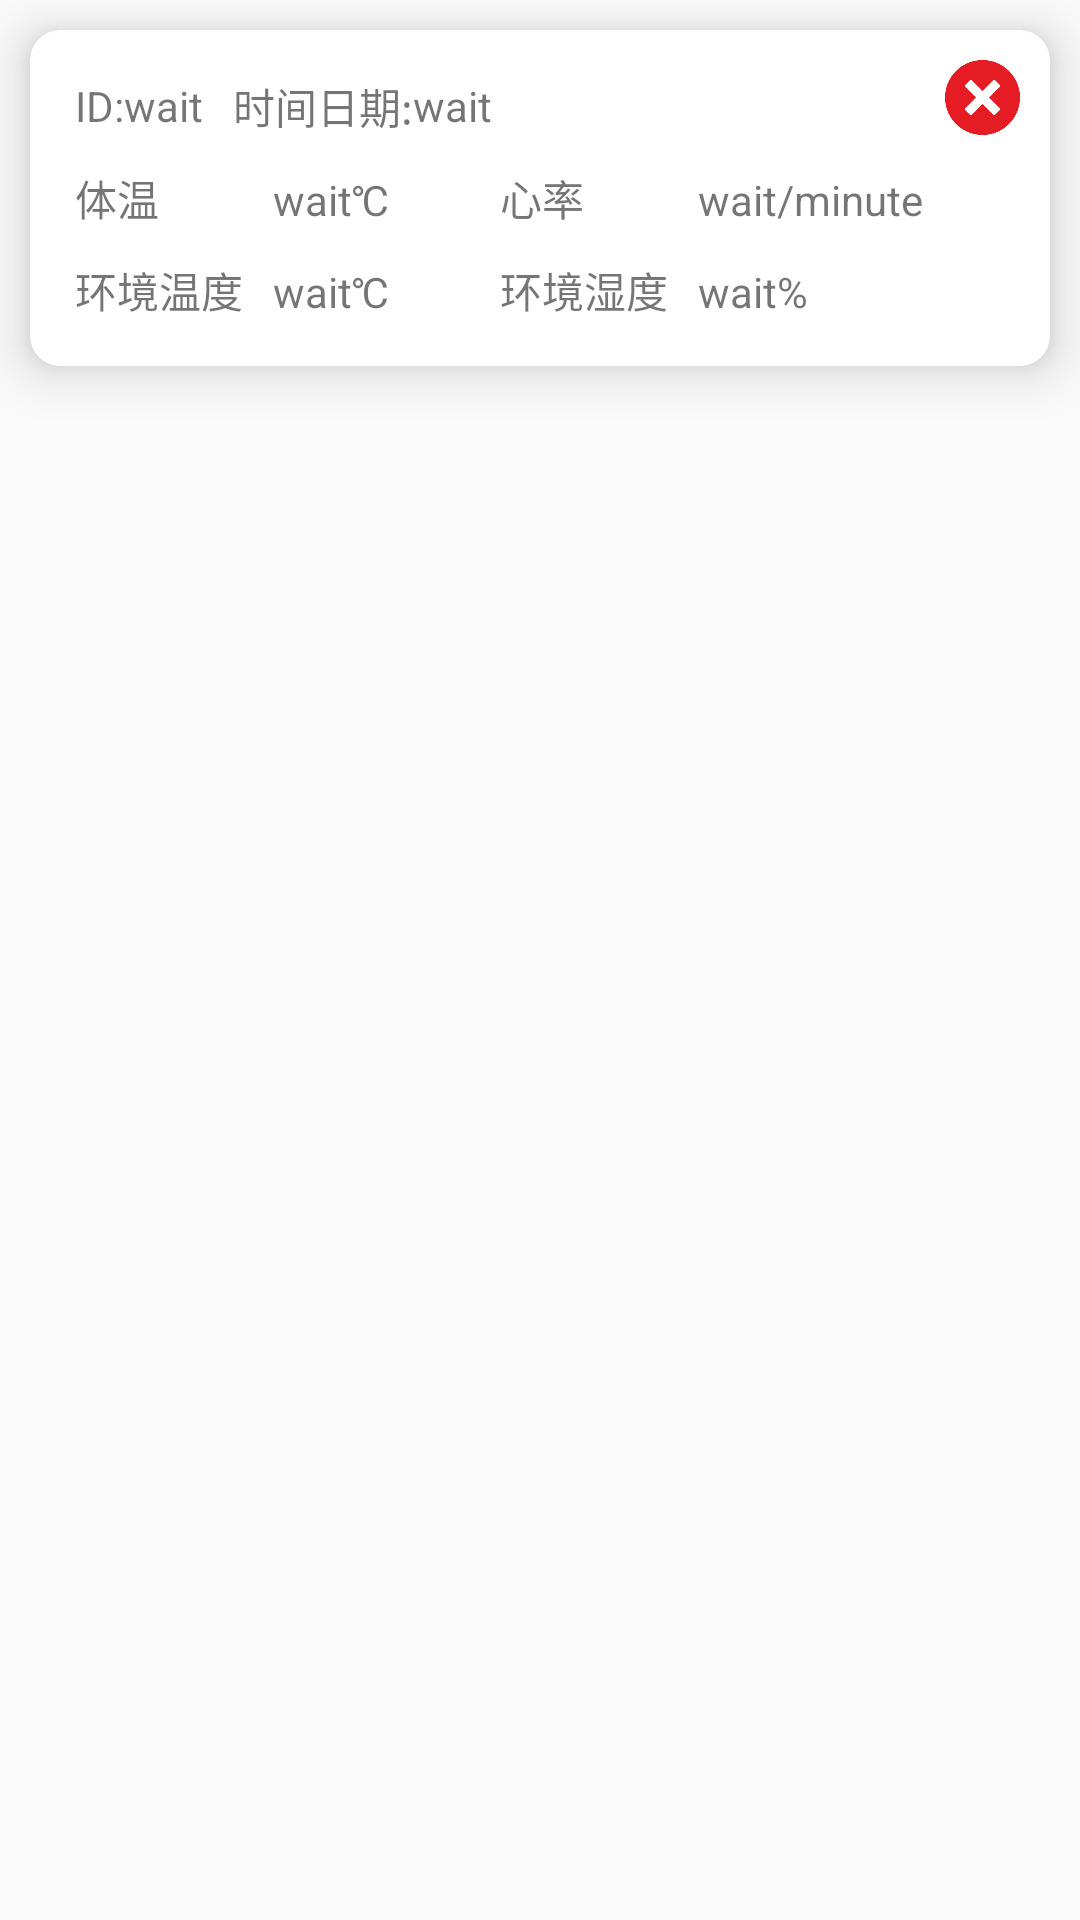

Icon click points for this 1080px×1920px phone screenshot, format (x,y):
delete: (982,97)
